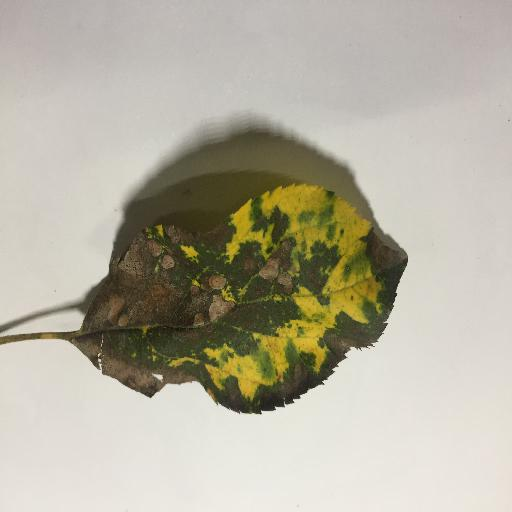Brown_Spot: (4, 197, 428, 416)
